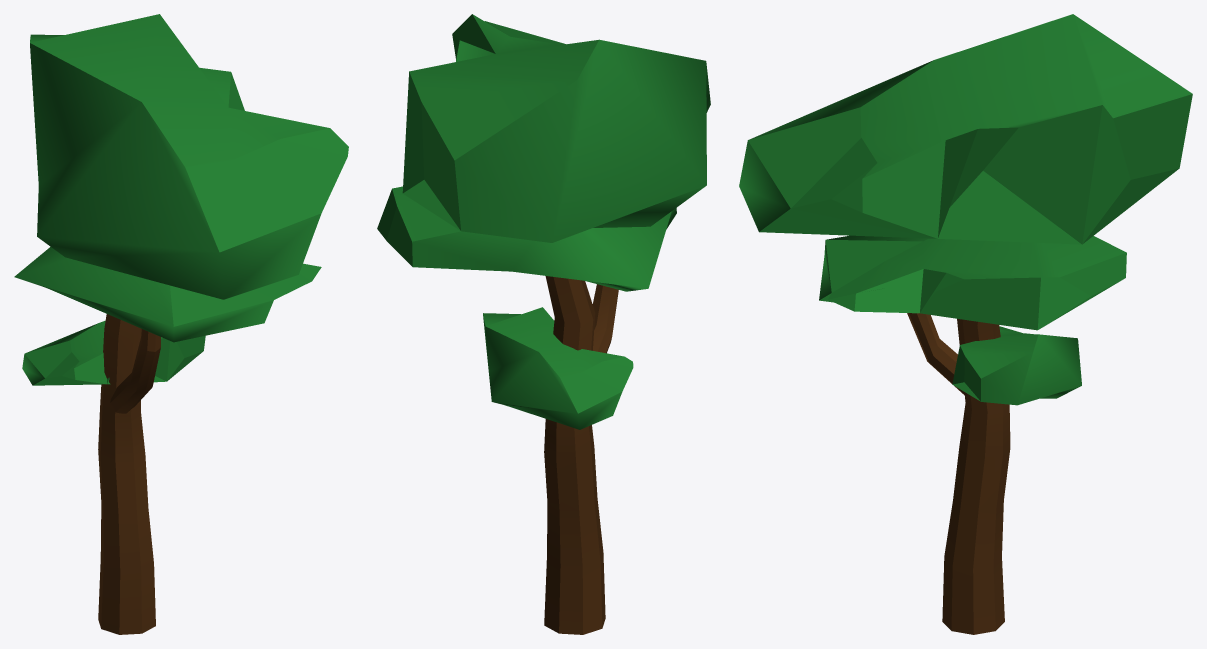
File: Tree7.fbx
3 views of the same model, side by side, from view 1: azimuth 30°, elevation 25°; view 2: azimuth 150°, elevation 25°; view 3: azimuth 270°, elevation 25° (orthographic). The views are drawn at different scales.
Parts seen in each view (by area): view 1: Treelight3; view 2: Treelight3; view 3: Treelight3.
Part boxes in pixels (bbox=[...]): Treelight3: bbox=[14, 14, 348, 634]; Treelight3: bbox=[377, 14, 710, 634]; Treelight3: bbox=[739, 14, 1192, 634].
Size of the model in its own units: 2.1 by 4.05 by 2.86.
